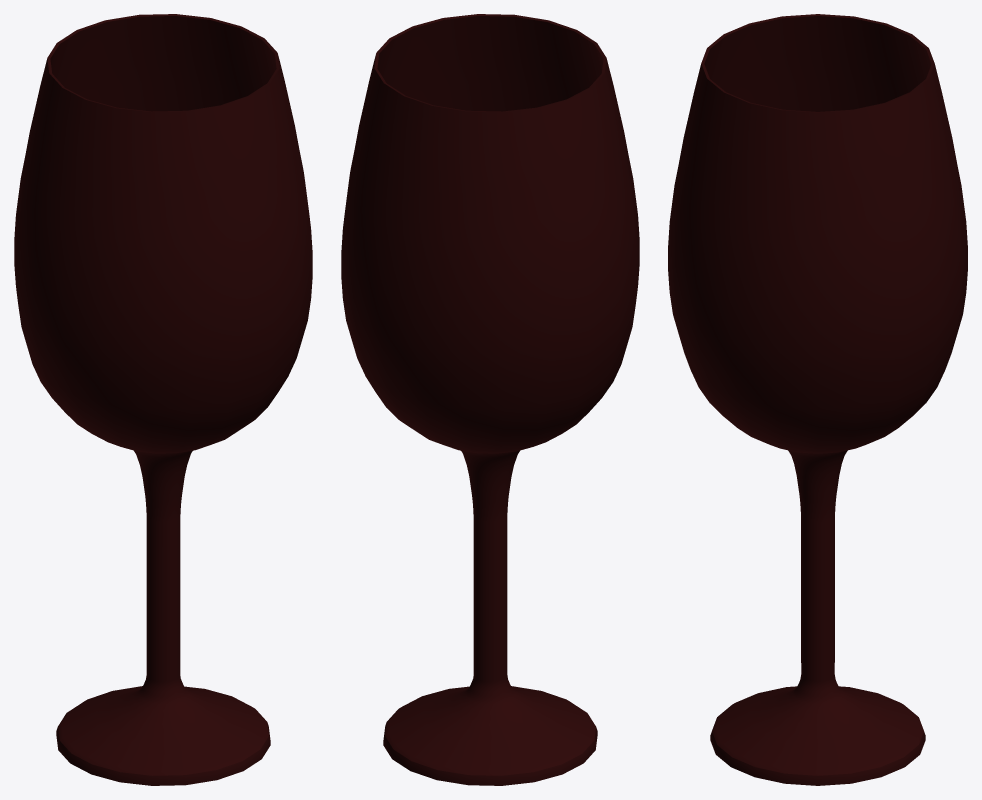
File: wine_glass.dae
3 views of the same model, side by side, from view 1: azimuth 30°, elevation 25°; view 2: azimuth 150°, elevation 25°; view 3: azimuth 270°, elevation 25° (orthographic).
Parts seen in each view (by area): view 1: WineGlasses_LP; view 2: WineGlasses_LP; view 3: WineGlasses_LP.
Boxes of the visible parts, bbox=[...] form: WineGlasses_LP: bbox=[14, 14, 312, 785]; WineGlasses_LP: bbox=[341, 14, 639, 785]; WineGlasses_LP: bbox=[668, 14, 967, 785].
Size of the model in its own units: 8.5 by 21.18 by 8.5.
